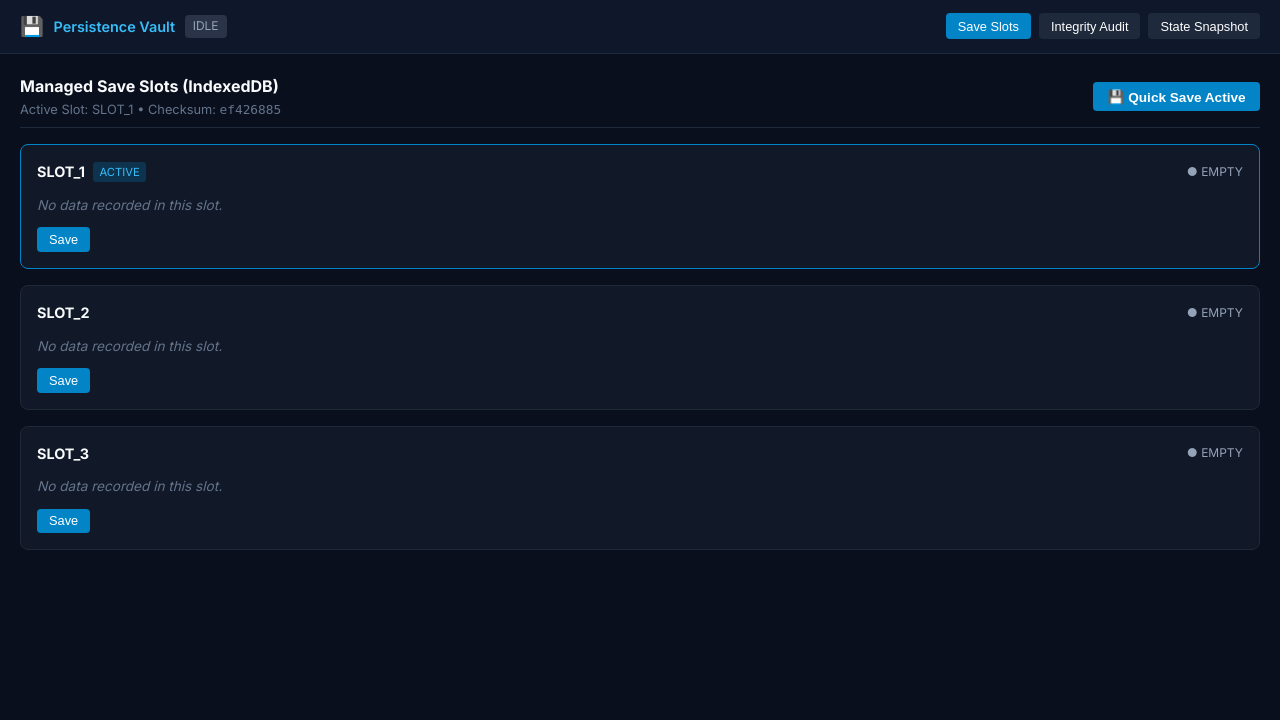
Test case: SaveManagerApp Desktop Component › switches to State Snapshot tab and renders JSON textarea
Check: the element with test id "app-slot-row-slot_1" is shown, box [20, 144, 1260, 269]
What coordinates should you click on to do the following:
click the button with test id "tab-save-raw"
I would click on:
 (1204, 26)
Its box is [1148, 13, 1260, 40].
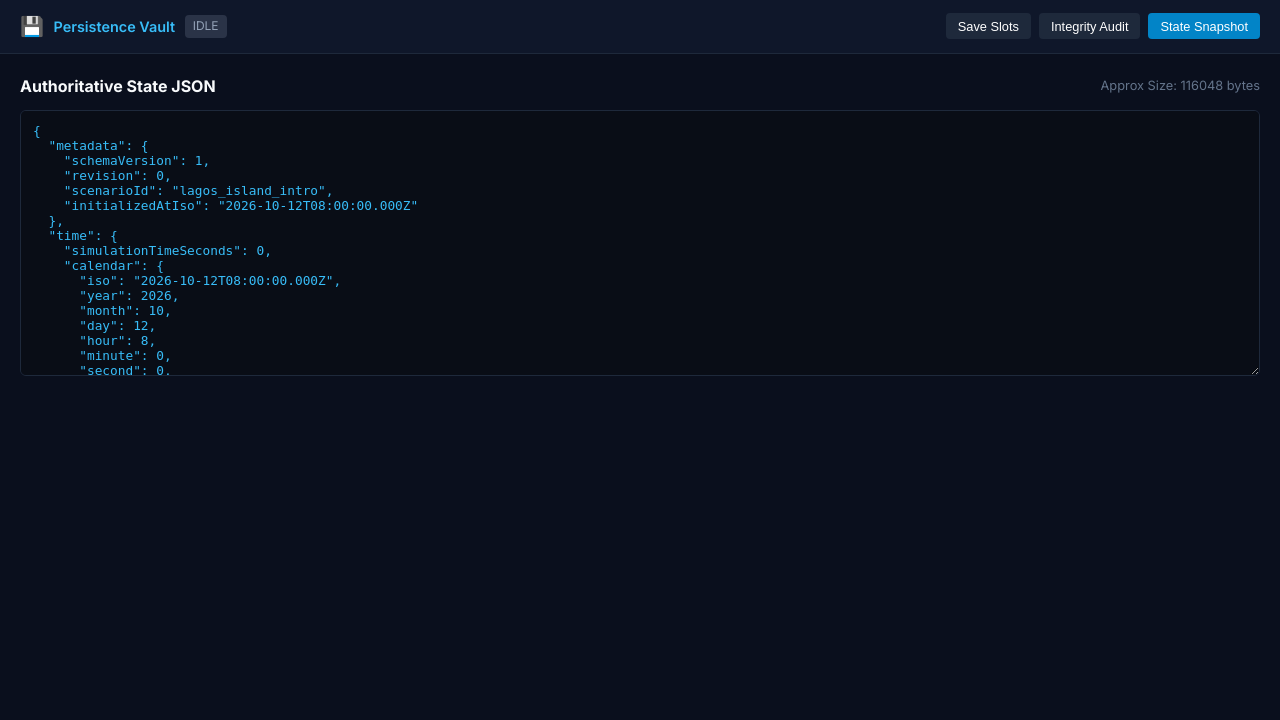
Check: the heading "Authoritative State JSON" is shown, box [20, 74, 216, 98]
